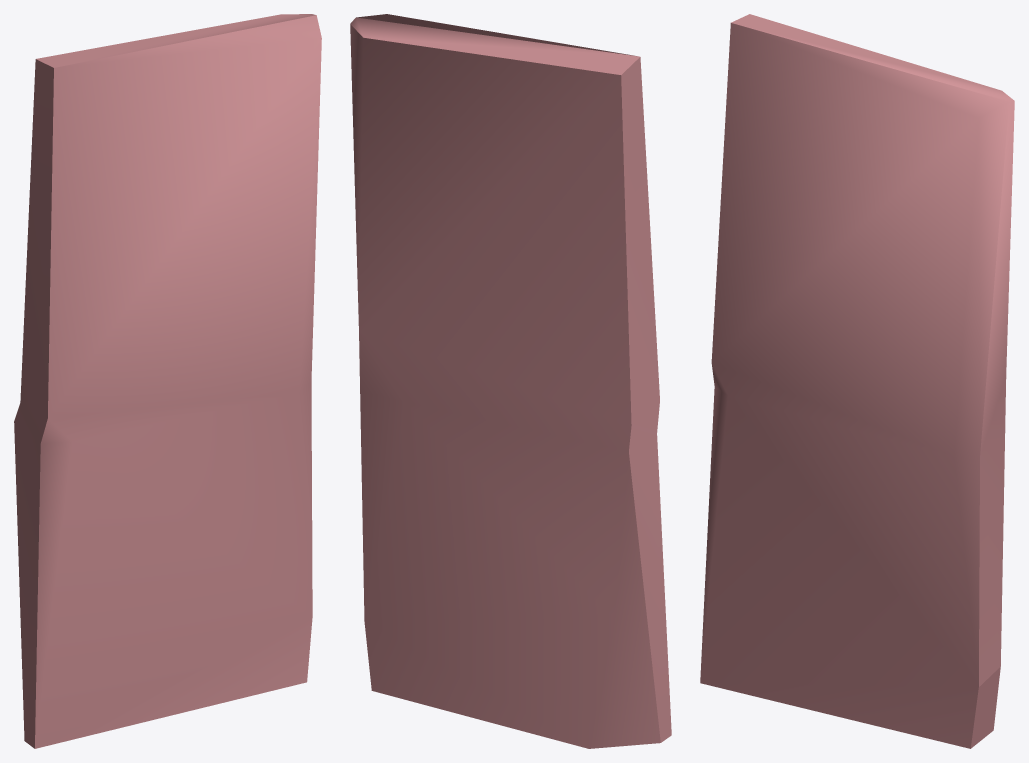
Rendered from Stone_Brick_002_d.FBX.
The picture shows the model from 3 angles, left to right: view 1: azimuth 30°, elevation 25°; view 2: azimuth 150°, elevation 25°; view 3: azimuth 330°, elevation 25°; orthographic projection. The views are drawn at different scales.
Parts seen in each view (by area): view 1: Stone_Brick_002_d_LOD0; view 2: Stone_Brick_002_d_LOD0; view 3: Stone_Brick_002_d_LOD0.
Part boxes in pixels (bbox=[...]): Stone_Brick_002_d_LOD0: bbox=[14, 14, 321, 748]; Stone_Brick_002_d_LOD0: bbox=[350, 14, 671, 748]; Stone_Brick_002_d_LOD0: bbox=[700, 14, 1014, 748].
Bounding box in the file's own units: 64.79 × 14.05 × 140.
